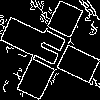E: (25, 25, 75, 81)
